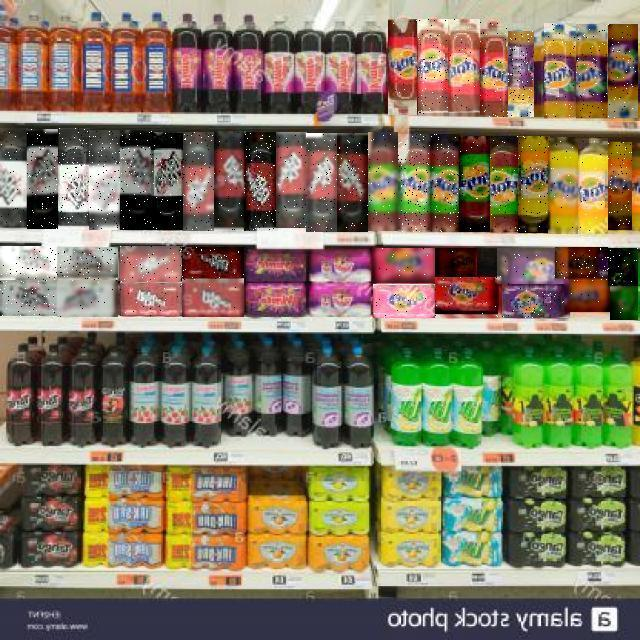Drinks: (120, 130, 154, 230), (244, 132, 278, 231), (89, 130, 122, 230), (151, 132, 184, 230), (214, 132, 246, 232), (428, 134, 460, 232), (398, 134, 430, 232), (518, 136, 550, 233), (27, 129, 58, 229), (544, 23, 576, 119), (448, 20, 480, 116), (183, 132, 214, 231), (306, 133, 337, 232), (337, 133, 368, 232), (459, 136, 490, 232), (59, 128, 90, 224), (276, 132, 307, 228), (368, 132, 398, 231), (576, 25, 607, 119), (548, 138, 578, 234), (578, 138, 608, 234), (418, 20, 448, 116), (608, 25, 638, 119), (388, 19, 417, 115), (0, 128, 28, 226), (490, 136, 518, 233), (480, 21, 508, 117), (436, 278, 502, 318), (497, 248, 568, 284), (502, 285, 570, 319), (372, 248, 436, 283), (508, 31, 534, 117), (58, 281, 120, 317), (120, 247, 182, 283), (182, 281, 244, 317), (181, 248, 244, 282), (608, 142, 632, 230), (57, 248, 119, 282), (120, 282, 182, 316), (373, 284, 435, 318), (0, 281, 58, 317), (0, 246, 57, 280), (555, 248, 608, 282), (564, 280, 610, 312), (435, 248, 477, 278), (608, 248, 638, 286), (610, 282, 638, 320)
